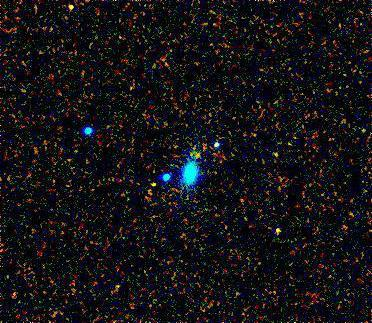star: (138, 170, 168, 200)
